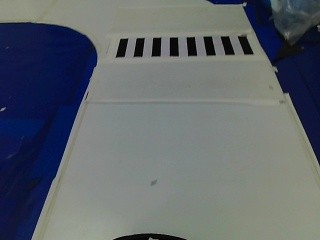crosswalk: (105, 31, 257, 61)
